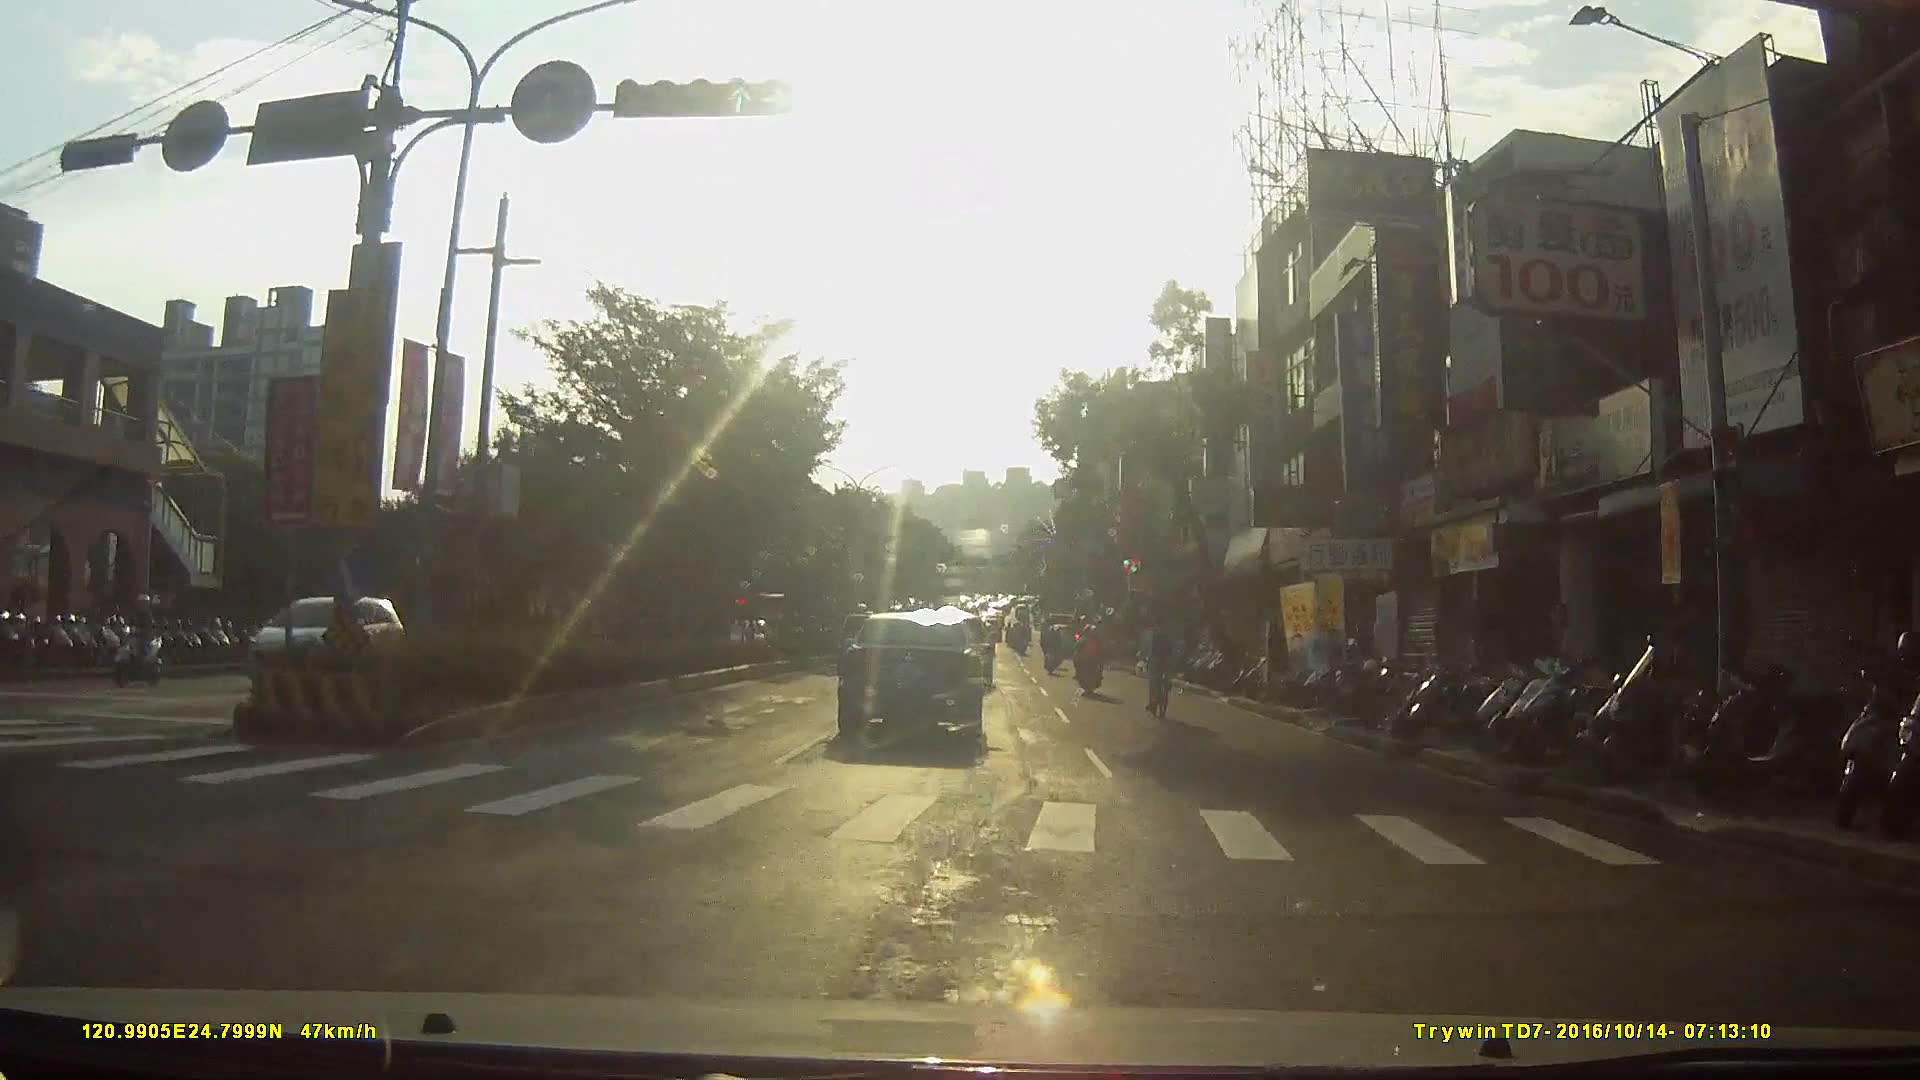rider: (1137, 611, 1185, 719), (113, 595, 165, 689), (1076, 625, 1106, 698), (1039, 625, 1065, 676)
vehicle: (838, 607, 987, 737), (243, 594, 411, 691)
